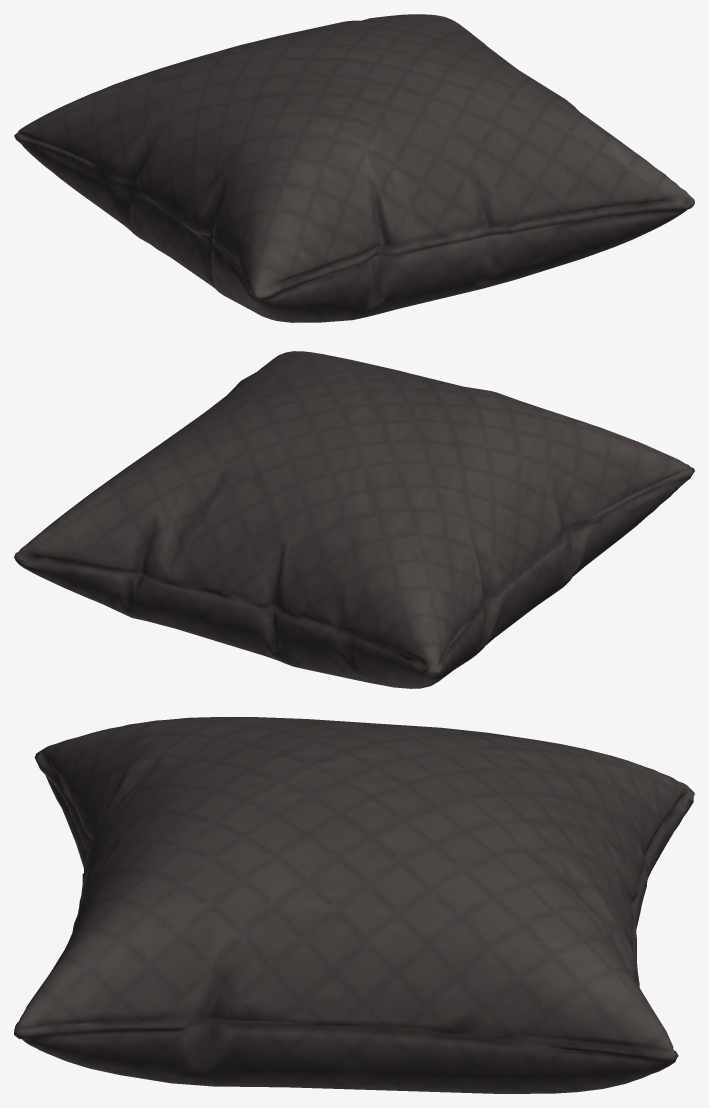
Rendered from SM_Cushion_01.fbx.
The picture shows the model from 3 angles, top to bottom: view 1: azimuth 30°, elevation 25°; view 2: azimuth 150°, elevation 25°; view 3: azimuth 270°, elevation 25°; orthographic projection. The views are drawn at different scales.
Parts seen in each view (by area): view 1: SM_Cushion_01_LOD0; view 2: SM_Cushion_01_LOD0; view 3: SM_Cushion_01_LOD0.
Boxes of the visible parts, x1,y1,x2,y2 form: SM_Cushion_01_LOD0: (14,14,694,322); SM_Cushion_01_LOD0: (14,351,694,688); SM_Cushion_01_LOD0: (14,717,694,1093).
Bounding box in the file's own units: 58.05 × 58.96 × 24.93.
1 material, 1 textured.
